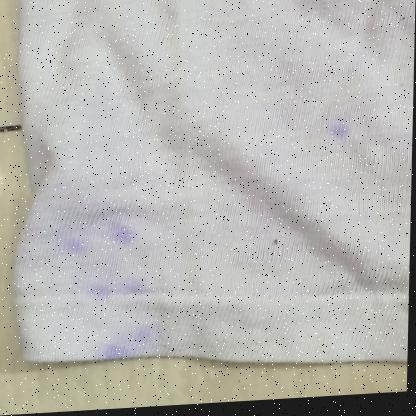spot: (103, 321, 161, 359), (105, 222, 143, 247), (59, 234, 94, 260), (119, 274, 151, 300), (85, 281, 115, 306), (333, 123, 353, 144)
